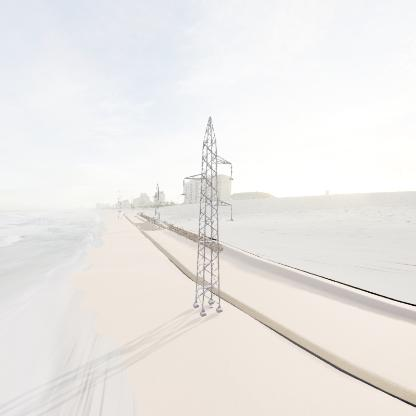tower: (180, 116, 237, 319)
